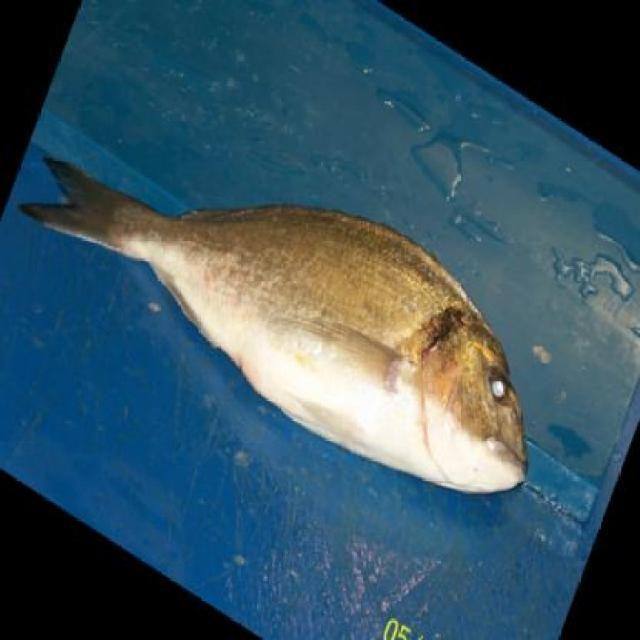Healthy Fish: (18, 139, 542, 501)
